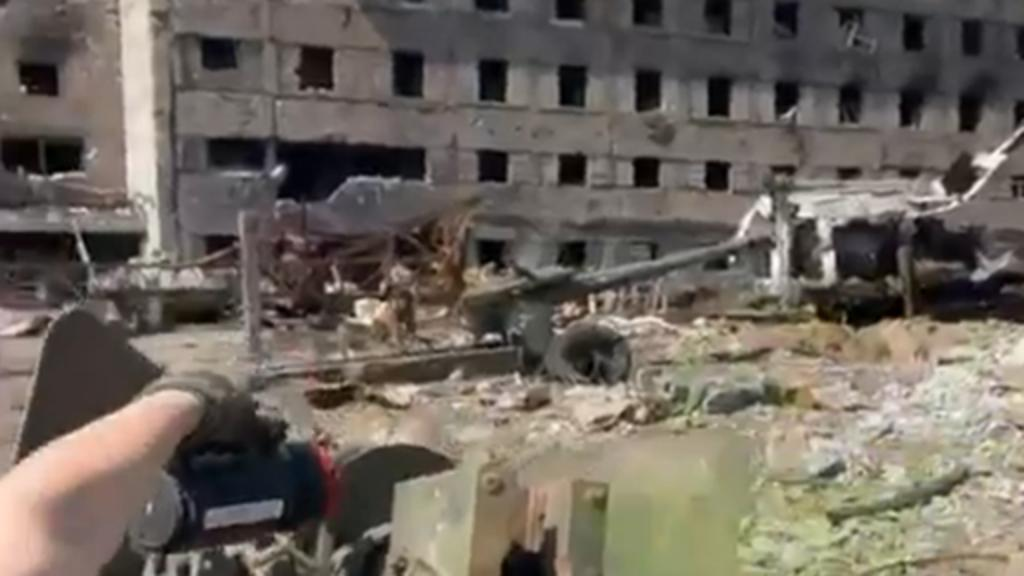ART: (246, 228, 772, 394)
